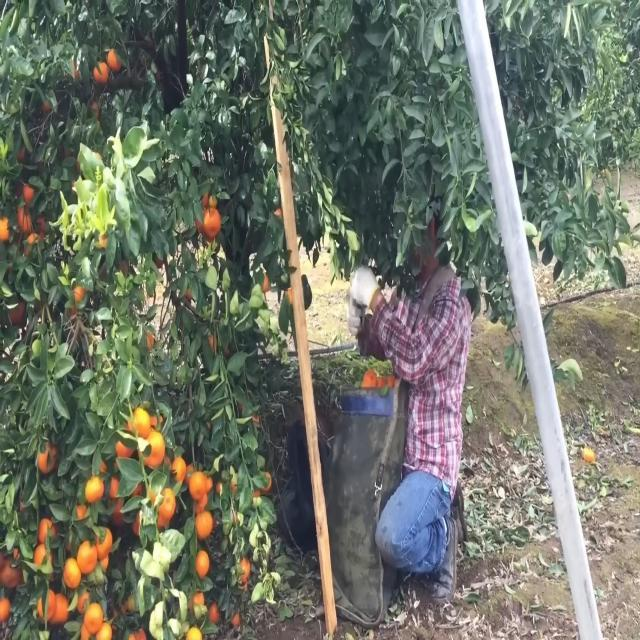Jeruk Sudah Matang: (143, 430, 165, 468), (0, 555, 20, 591), (77, 540, 98, 574), (130, 406, 152, 438), (37, 587, 56, 623), (34, 542, 54, 576), (37, 442, 58, 474), (94, 526, 114, 558), (61, 559, 83, 588), (52, 592, 70, 626), (202, 210, 222, 240), (36, 517, 58, 544), (84, 602, 102, 635), (194, 510, 213, 540), (85, 476, 104, 504), (160, 489, 176, 522), (188, 472, 206, 499), (16, 205, 32, 232), (92, 59, 110, 82), (196, 550, 210, 579), (22, 182, 38, 207), (172, 458, 187, 483), (237, 557, 252, 582), (95, 621, 113, 640), (107, 48, 122, 70), (208, 600, 220, 626), (77, 590, 91, 612), (108, 476, 120, 500), (144, 329, 154, 352), (262, 470, 272, 492), (230, 610, 242, 626)
